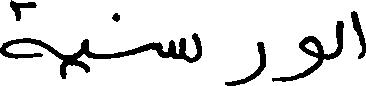X: (0, 0, 44, 63), (272, 31, 322, 85), (225, 37, 265, 85), (156, 28, 201, 67), (353, 6, 365, 63), (81, 34, 89, 77), (335, 16, 342, 62)
